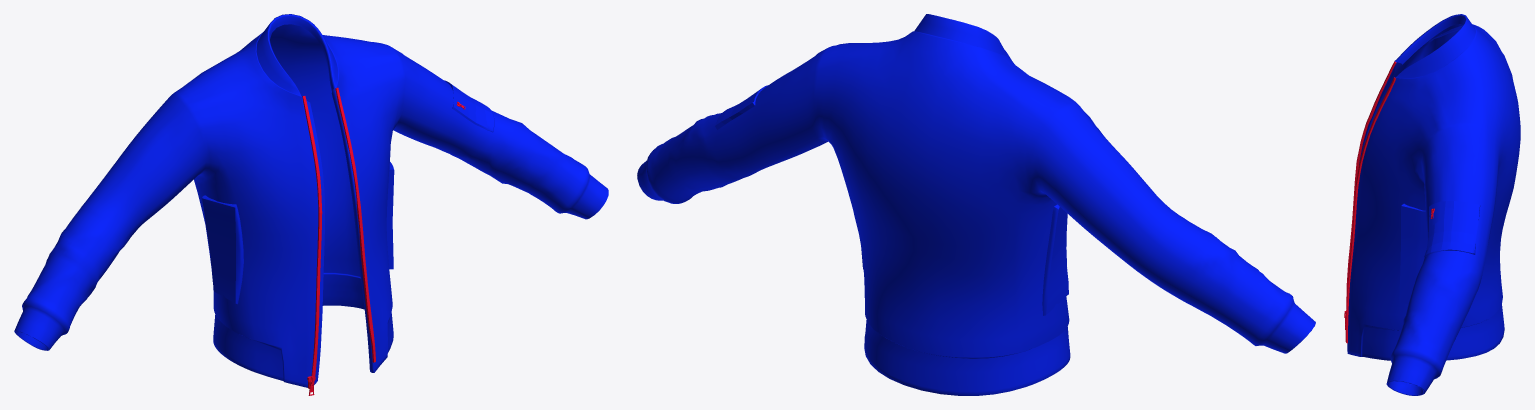
3 renders of one model, left to right at view 1: azimuth 30°, elevation 25°; view 2: azimuth 150°, elevation 25°; view 3: azimuth 270°, elevation 25°, orthographic. The views are drawn at different scales.
Visible parts, largest first — view 1: jacket_low, sidepockets_low, jacket_zipper_low, shoulderpocket_low; view 2: jacket_low, sidepockets_low; view 3: jacket_low, shoulderpocket_low, sidepockets_low, jacket_zipper_low.
Part boxes in pixels (x1,y1,x2,y2): jacket_low: [14, 14, 608, 387]; sidepockets_low: [202, 162, 394, 304]; jacket_zipper_low: [302, 87, 375, 376]; shoulderpocket_low: [444, 80, 494, 132]; jacket_low: [637, 14, 1315, 395]; sidepockets_low: [861, 204, 1068, 315]; jacket_low: [1347, 14, 1520, 395]; shoulderpocket_low: [1424, 201, 1480, 256]; sidepockets_low: [1399, 203, 1427, 303]; jacket_zipper_low: [1345, 61, 1396, 343].
Size of the model in its own units: 5.51 by 2.94 by 1.44.
